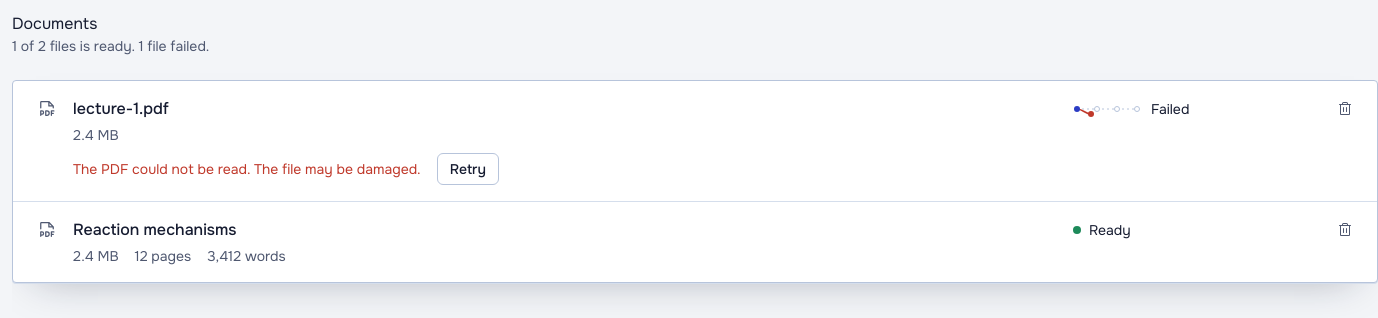
Scenario: DocumentList retry and delete › retries a failed document: its row moves on and focus goes to its title
This screenshot has width=1378, height=318.
Click the button named "Retry lecture-1.pdf" at (468,169), box top-left (437, 153), bottom-right (499, 185)
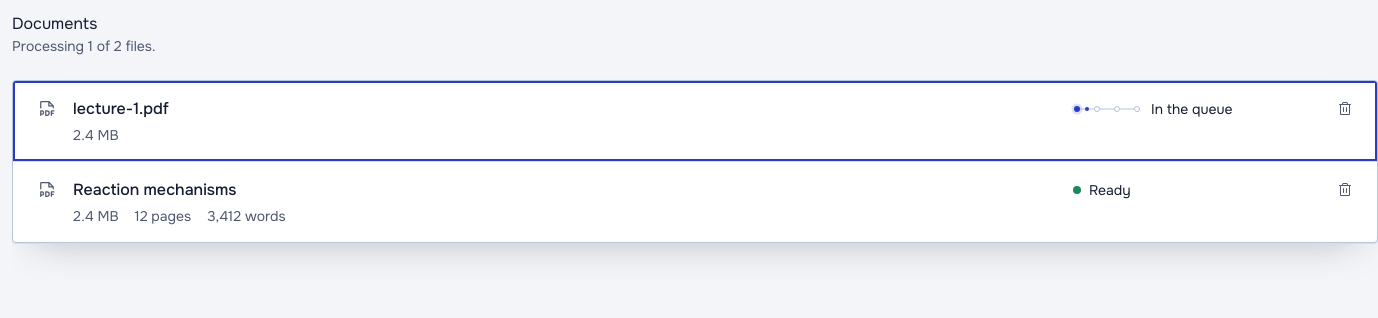
Now the text "In the queue" is shown, box top-left (1151, 99), bottom-right (1233, 119)
Now the text "The PDF could not be read. The file may be damaged." is gone
Now the message reads "Processing 1 of 2 files.", box top-left (12, 37), bottom-right (156, 55)
